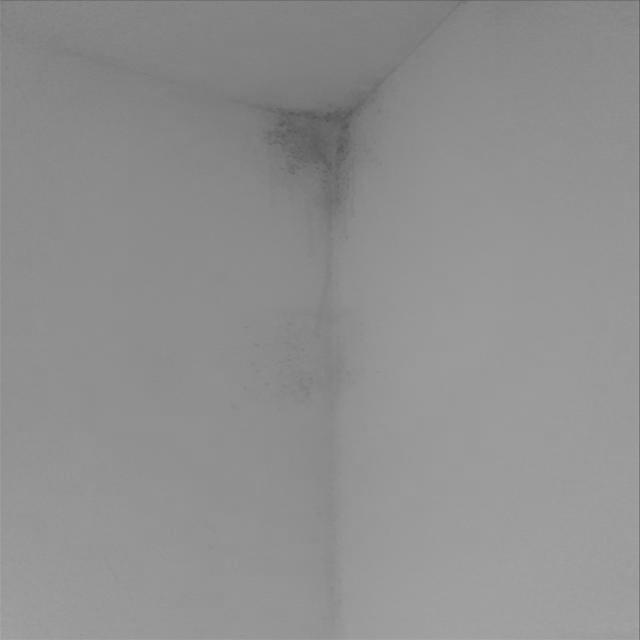stain marks: (236, 80, 385, 420)
